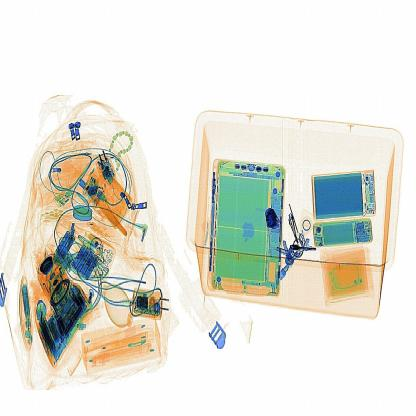scissors: (262, 198, 287, 234)
